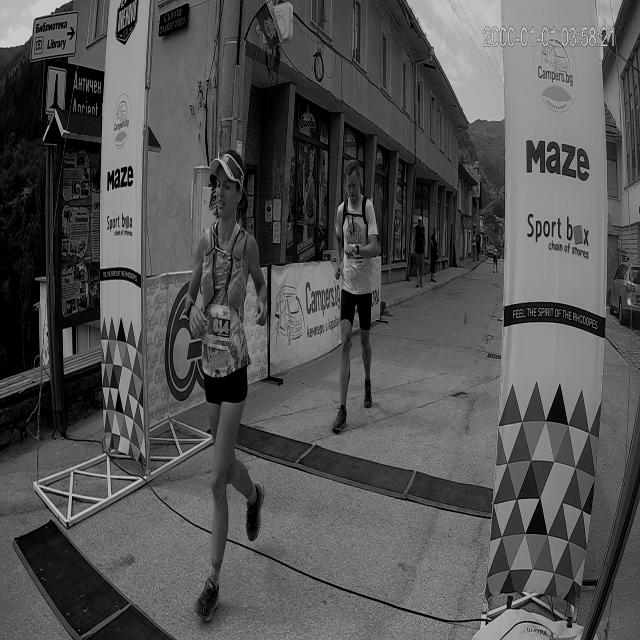runner: (158, 128, 284, 640), (318, 140, 392, 460)
